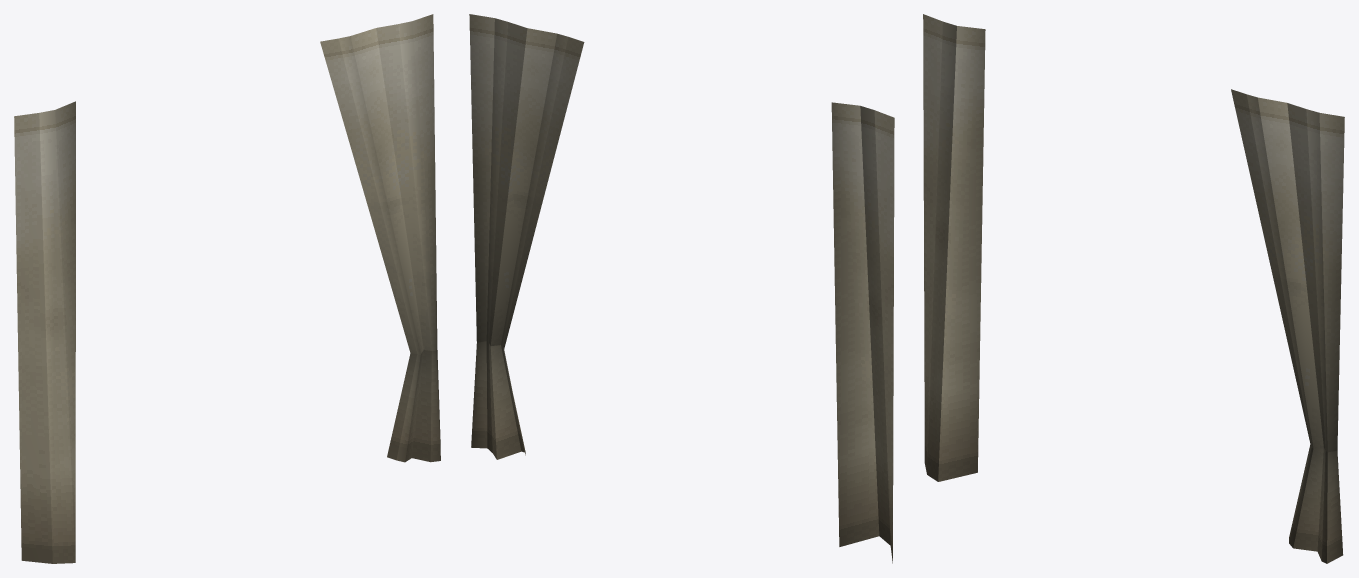
Rendered from prop_curtain-open-0.glb.
The picture shows the model from 3 angles, left to right: view 1: azimuth 30°, elevation 25°; view 2: azimuth 150°, elevation 25°; view 3: azimuth 330°, elevation 25°; orthographic projection.
Parts seen in each view (by area): view 1: prop_curtain-open-0; view 2: prop_curtain-open-0; view 3: prop_curtain-open-0.
Part boxes in pixels (left/top/right/bottom): prop_curtain-open-0: left=14, top=14, right=440, bottom=563; prop_curtain-open-0: left=469, top=14, right=894, bottom=563; prop_curtain-open-0: left=923, top=14, right=1344, bottom=563.
Bounding box in the file's own units: 1.72 × 1.73 × 0.1643.
Materials: 1 (1 with a texture image).
